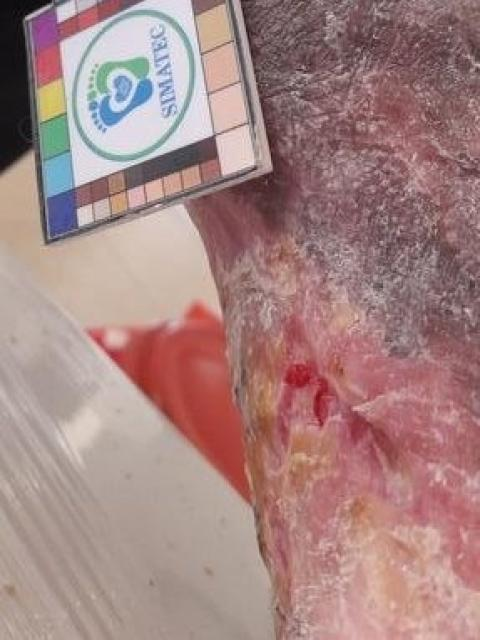wound: (241, 290, 480, 599)
